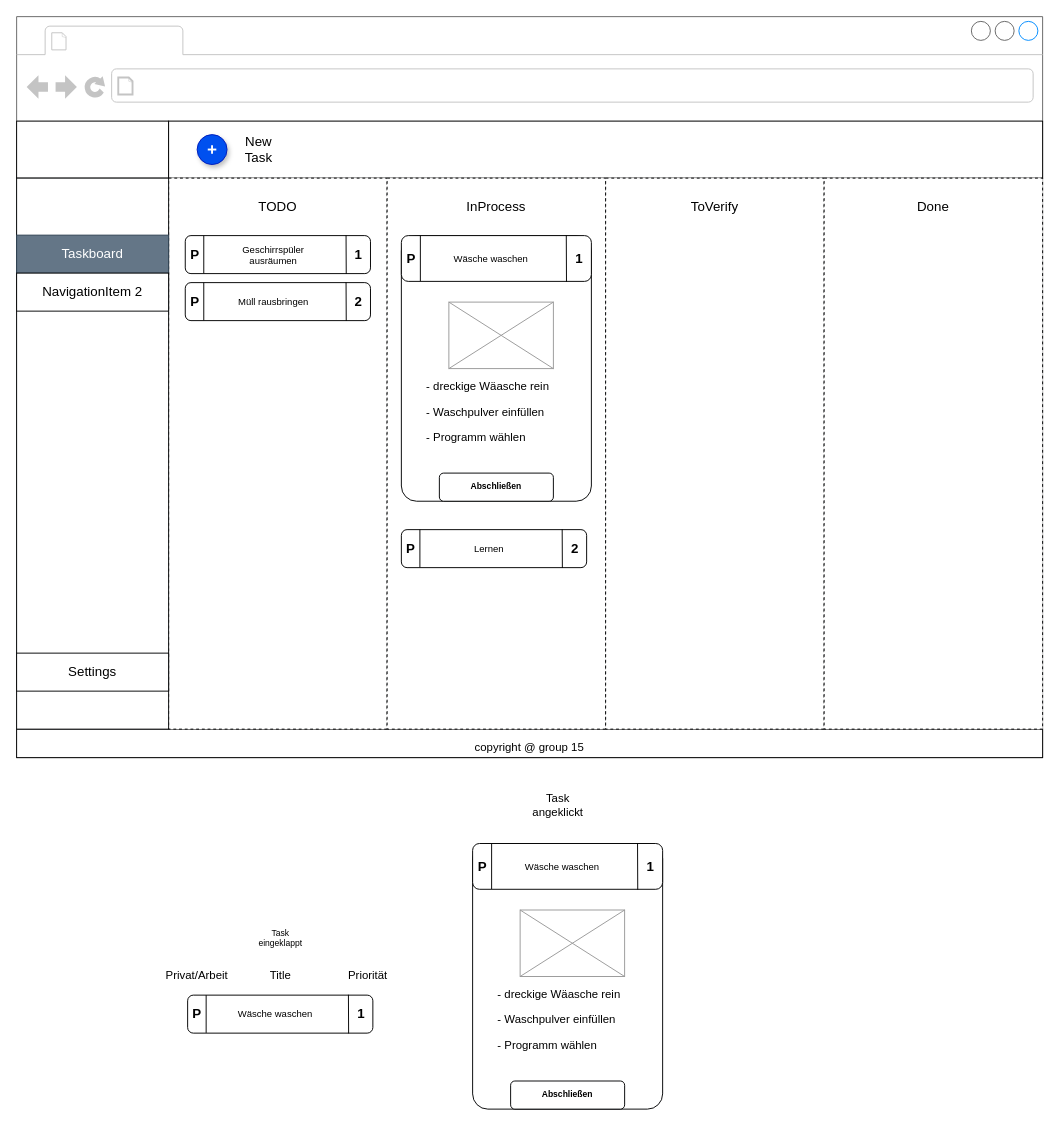
This 1059x1126 diagram has some shape labels left out. Here are the shapes that lost their labels. From the top down, the centre of each, then its label:
At (x=125, y=40): "Page 1".
At (x=258, y=85): "https://www.taskmaster.io".
At (x=92, y=149): "TaskMaster".
